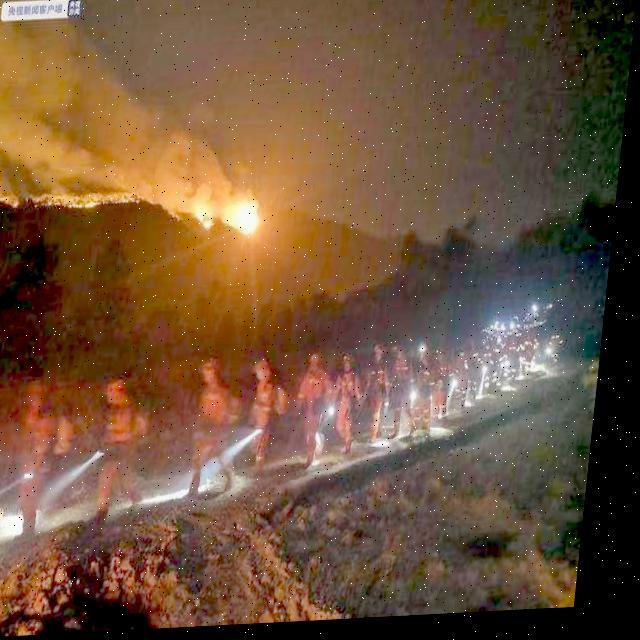Fire: (192, 188, 273, 250)
